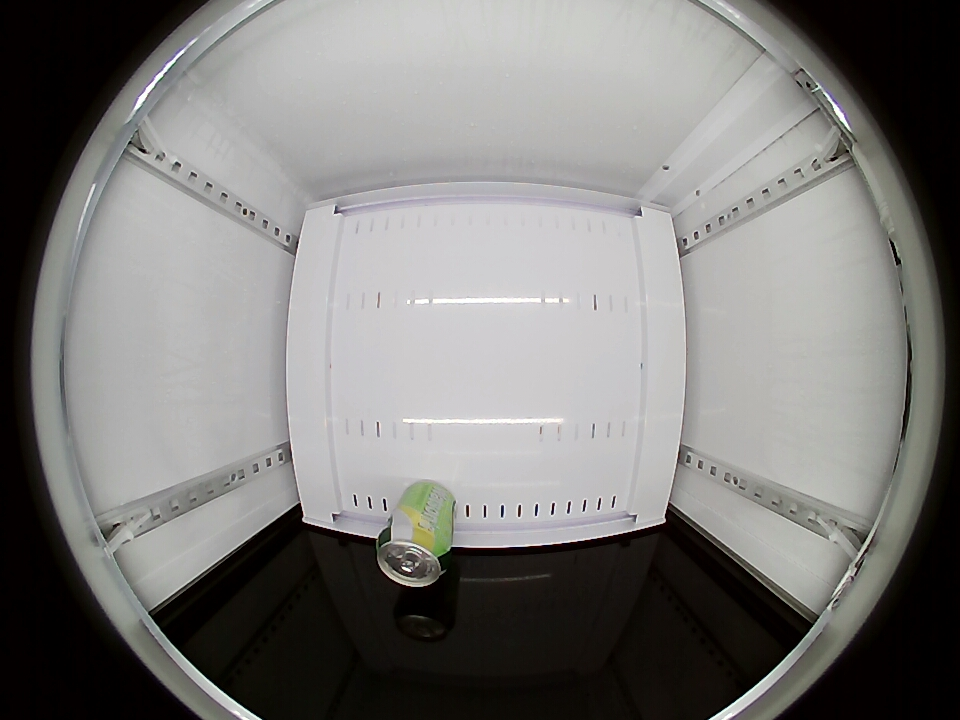quchenshixiangcao: (376, 523, 450, 586)
